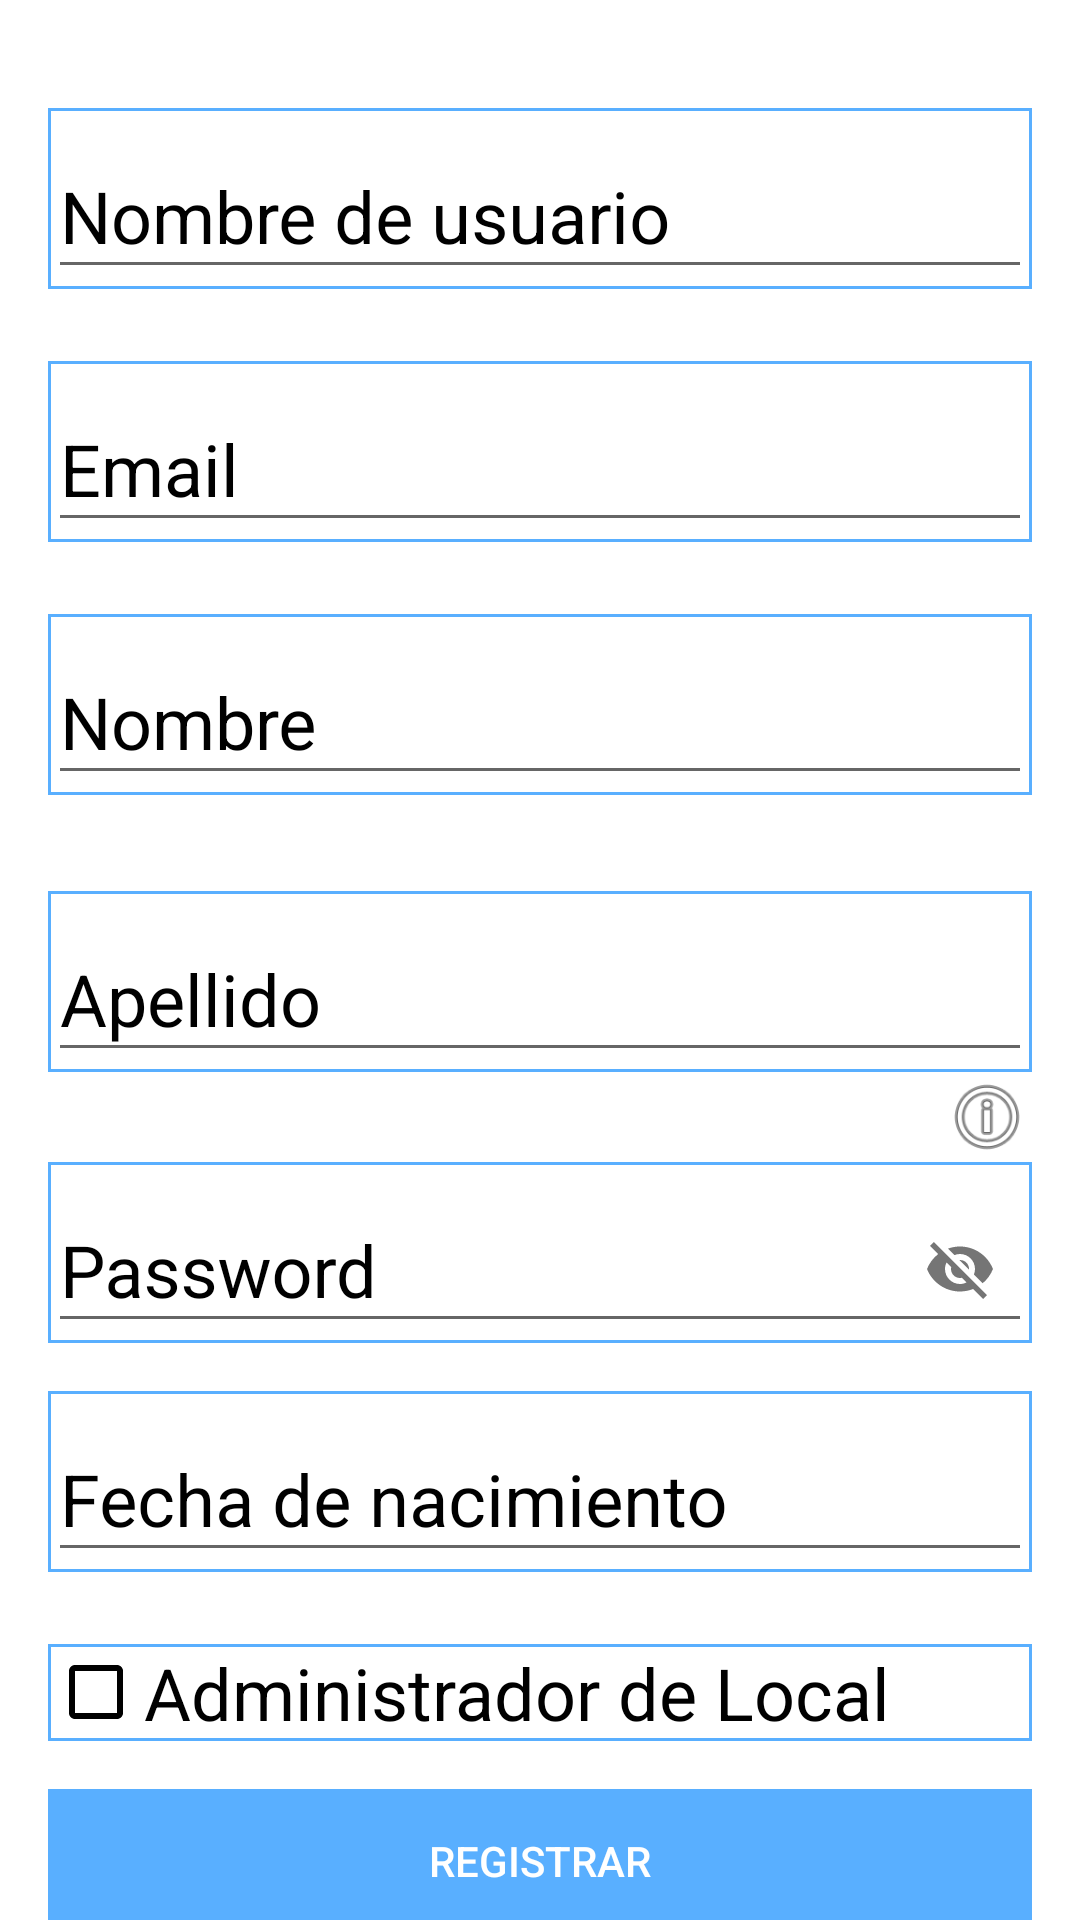

Locate icon controls on the screen. Image size 1080×1920, boxes as (x1, y1, x2, y2).
info details: (954, 1085, 1020, 1150)
